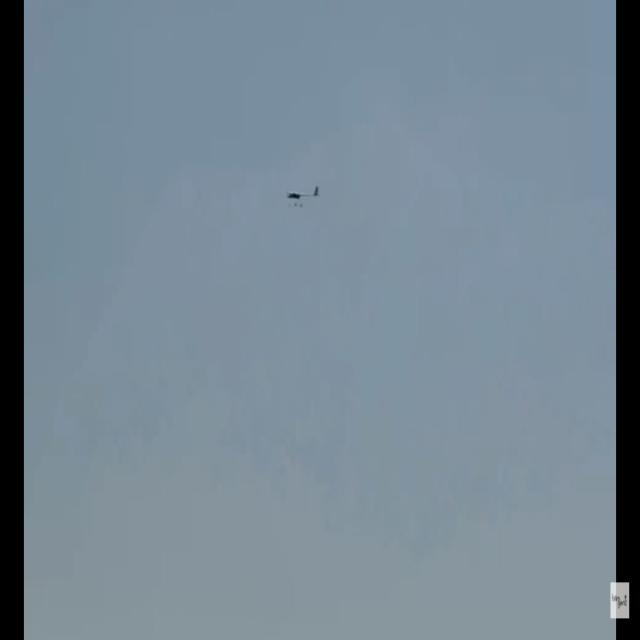iha: (287, 185, 319, 208)
